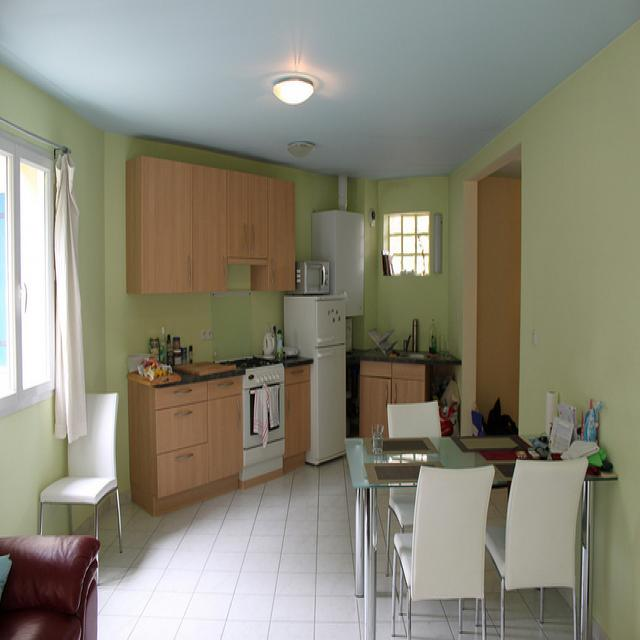chair: (390, 465, 496, 639), (486, 460, 588, 640), (37, 392, 125, 555), (388, 401, 441, 438)
dining table: (343, 426, 554, 493)
